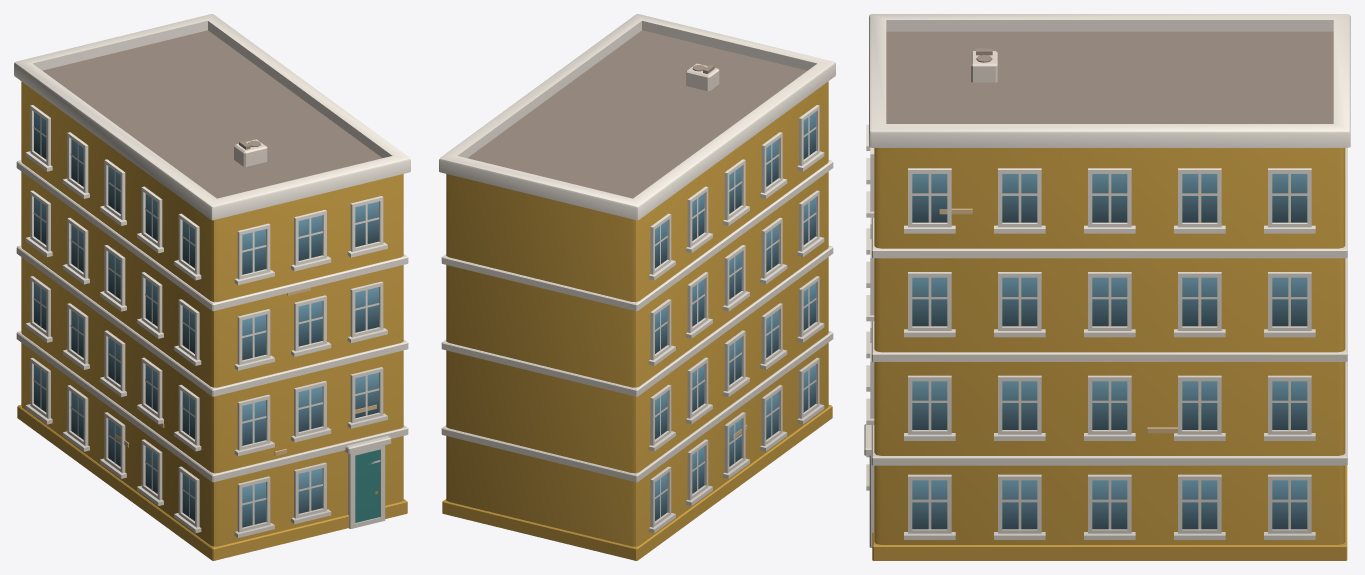
Rendered from boylston_s21.glb.
3 views of the same model, side by side, from view 1: azimuth 30°, elevation 25°; view 2: azimuth 150°, elevation 25°; view 3: azimuth 270°, elevation 25° (orthographic). The views are drawn at different scales.
Visible parts, largest first — view 1: boylston_s21; view 2: boylston_s21; view 3: boylston_s21.
Part boxes in pixels (x1,y1,x2,y2): boylston_s21: (14, 14, 410, 560); boylston_s21: (439, 14, 835, 560); boylston_s21: (864, 14, 1350, 560).
Size of the model in its own units: 8.48 by 14.51 by 14.46.
1 material, 1 textured.
